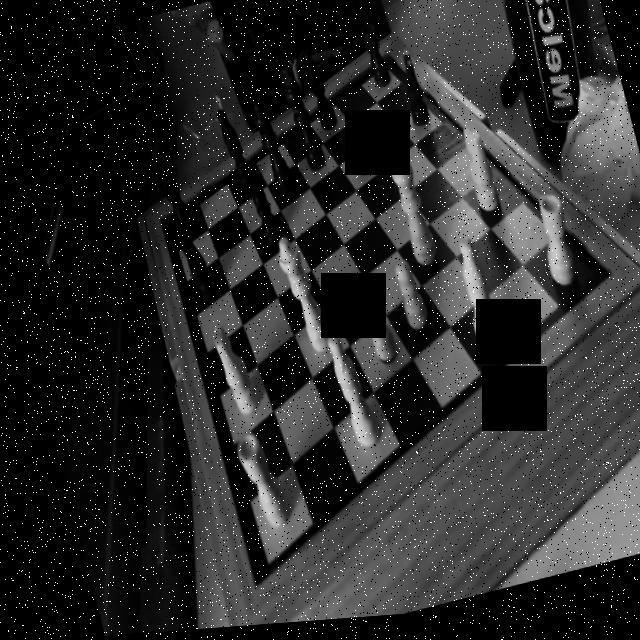chess-table-corners: (147, 206, 168, 237), (375, 48, 397, 74), (592, 263, 612, 290)
